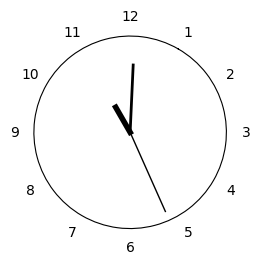12: (121, 9, 140, 23)
circle: (34, 36, 227, 229)
hours: (111, 103, 132, 134)
minutes: (128, 63, 135, 130)
seconds: (132, 136, 165, 212)
